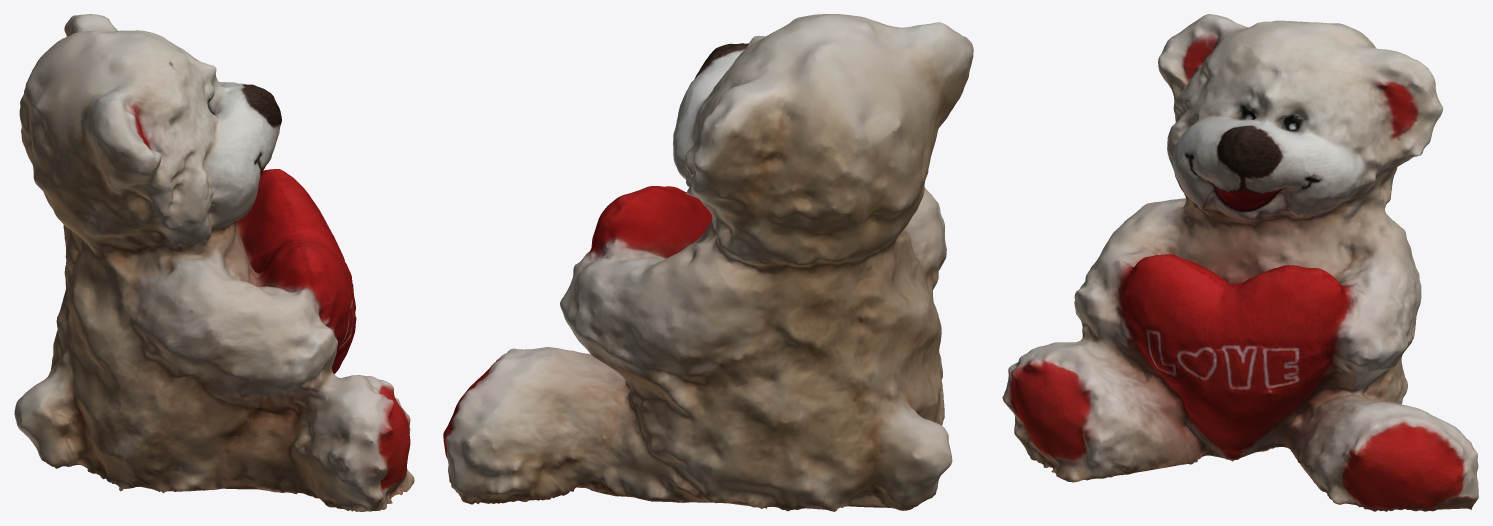
Rendered from osito.glb.
The picture shows the model from 3 angles, left to right: view 1: azimuth 30°, elevation 25°; view 2: azimuth 150°, elevation 25°; view 3: azimuth 270°, elevation 25°; orthographic projection. The views are drawn at different scales.
Visible parts, largest first — view 1: mainMeshNode; view 2: mainMeshNode; view 3: mainMeshNode.
Boxes of the visible parts, bbox=[...] form: mainMeshNode: bbox=[14, 14, 414, 511]; mainMeshNode: bbox=[443, 14, 973, 511]; mainMeshNode: bbox=[1002, 14, 1478, 511].
Size of the model in its own units: 3.63 by 3.91 by 4.34.
Materials: 1 (1 with a texture image).
